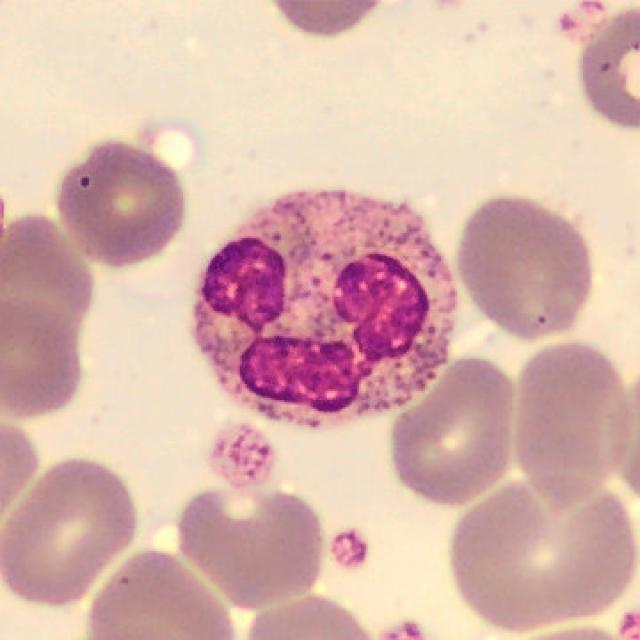Neutrofilo segmentado: (190, 188, 459, 434)
